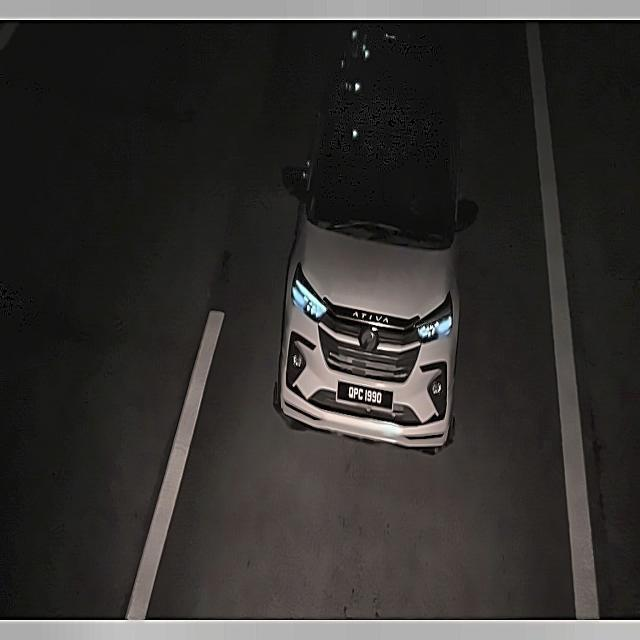car: (334, 372, 400, 418)
